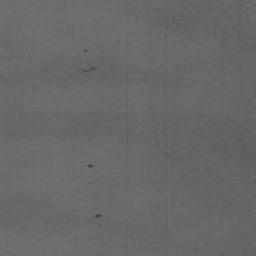Inclusion: (82, 65, 97, 74), (84, 161, 96, 170), (92, 211, 104, 220), (81, 47, 92, 55)
